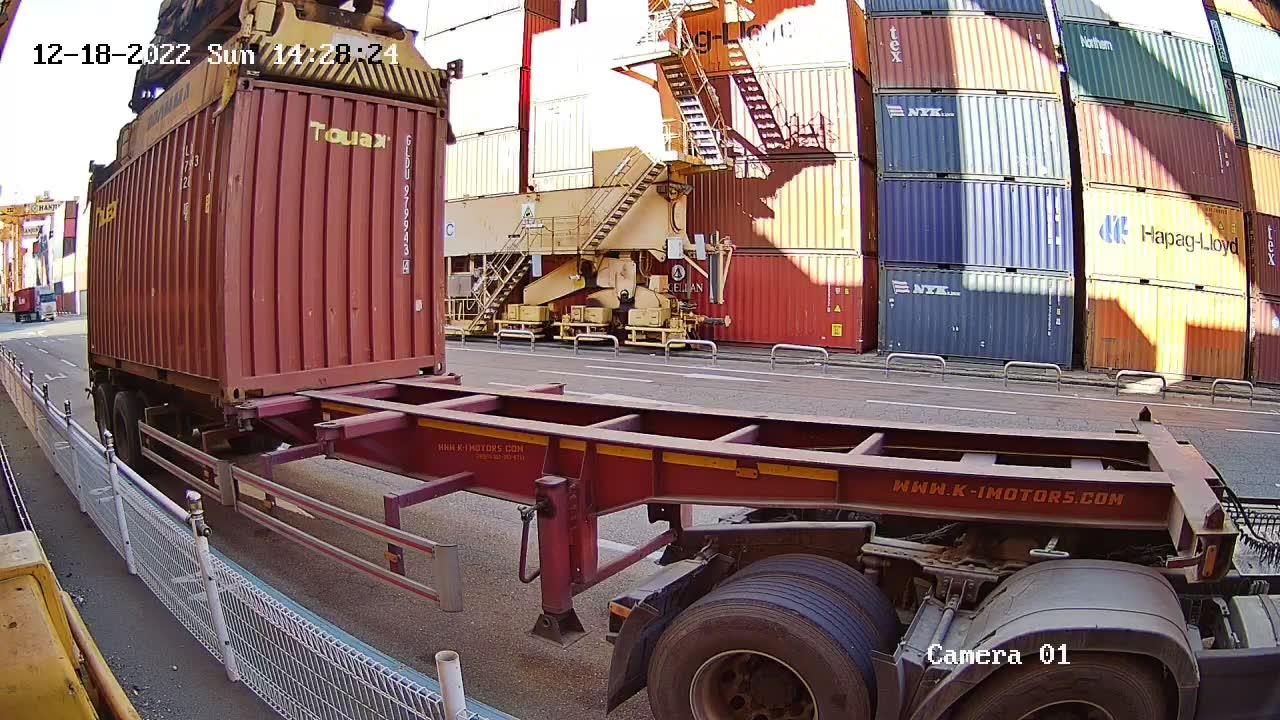Chassis: (238, 373, 463, 419)
Cone: (237, 403, 254, 431), (218, 402, 235, 428)
Hole_L: (227, 365, 267, 402)
Hole_R: (415, 339, 447, 375), (203, 365, 230, 403)
Tire: (647, 603, 868, 718), (961, 657, 1164, 719), (112, 399, 135, 460), (95, 388, 108, 440)
